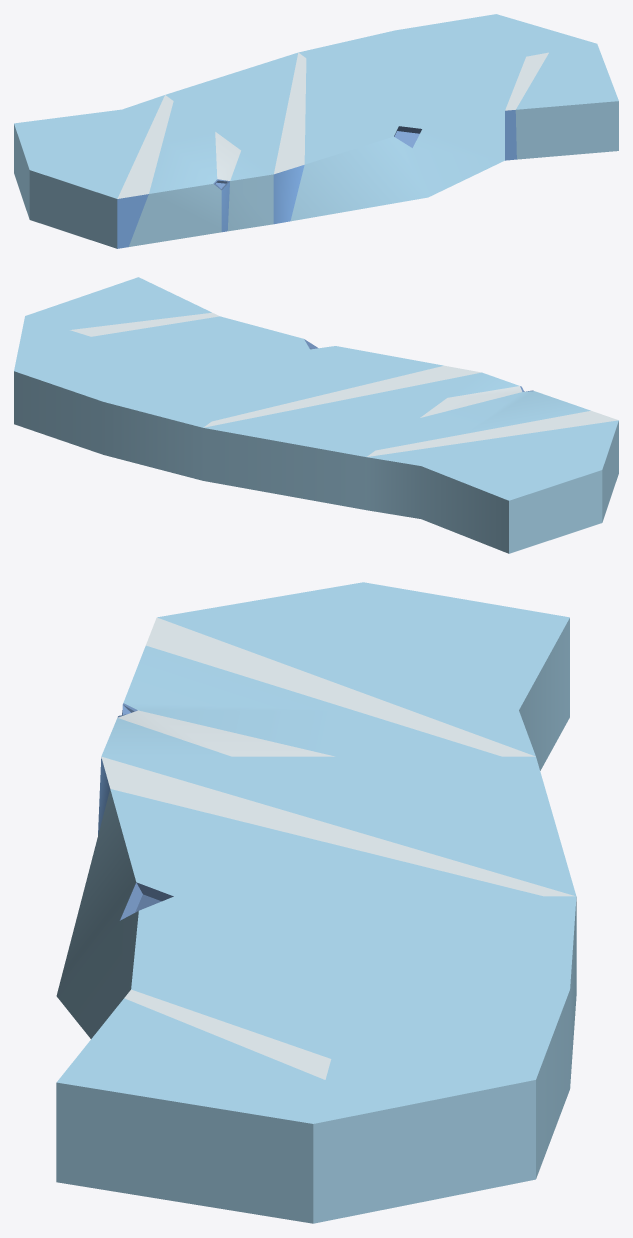
File: Icy Platform.fbx
3 renders of one model, top to bottom at view 1: azimuth 30°, elevation 25°; view 2: azimuth 150°, elevation 25°; view 3: azimuth 270°, elevation 25°, orthographic. The views are drawn at different scales.
Visible parts, largest first — view 1: Cube; view 2: Cube; view 3: Cube.
Part boxes in pixels (x1,y1,x2,y2): Cube: [14, 14, 618, 248]; Cube: [14, 277, 618, 553]; Cube: [56, 582, 576, 1223].
Bounding box in the file's own units: 6.99 × 0.6006 × 2.83.
Materials: 1 (1 with a texture image).
